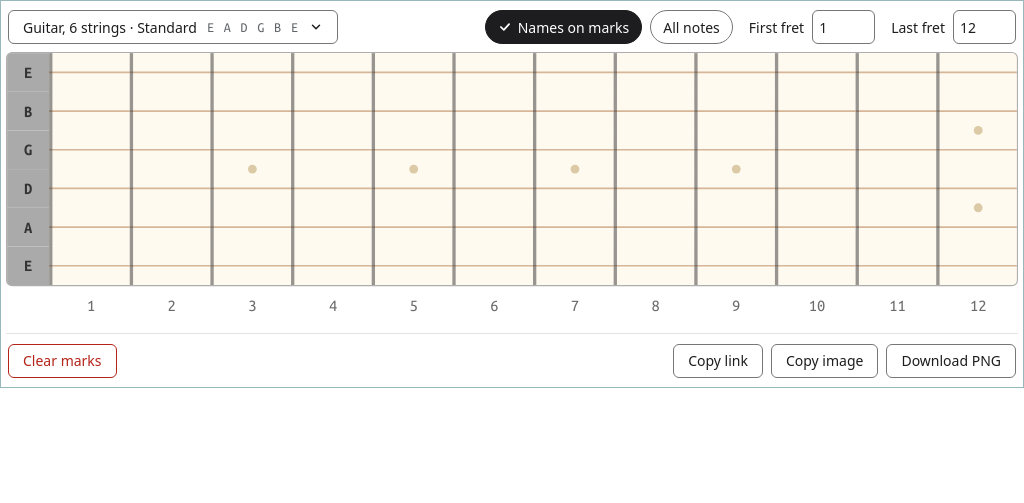
Test: Fretboard › fret window › pushes the last fret along to keep five frets showing
The image size is (1024, 503).
Replace the text in the number field labelled "First fret" with "15": [844, 27] box left=812, top=10, right=875, bottom=44
Then press Enter
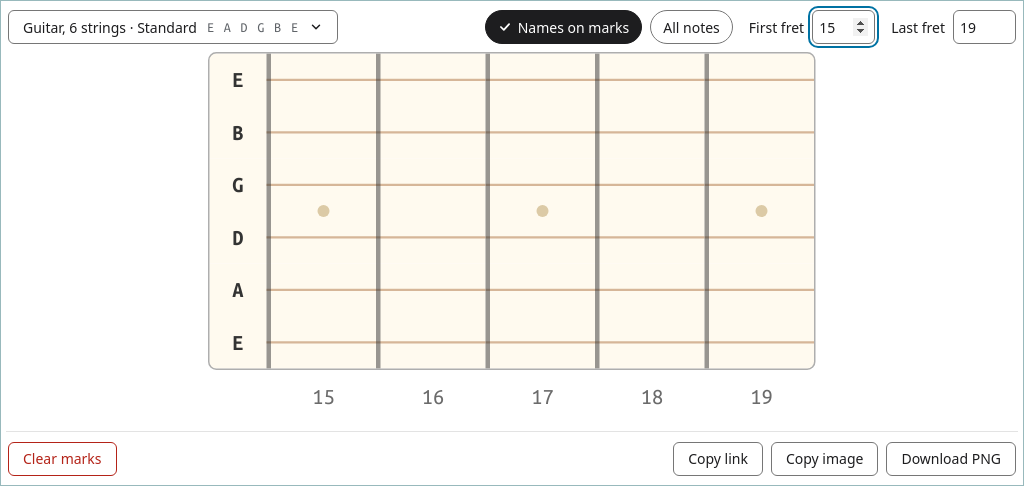
Check: the number field labelled "Last fret" holds "19"
Replace the text in the number field labelled "Last fret" with "8": [984, 27] box left=953, top=10, right=1016, bottom=44
Then press Enter
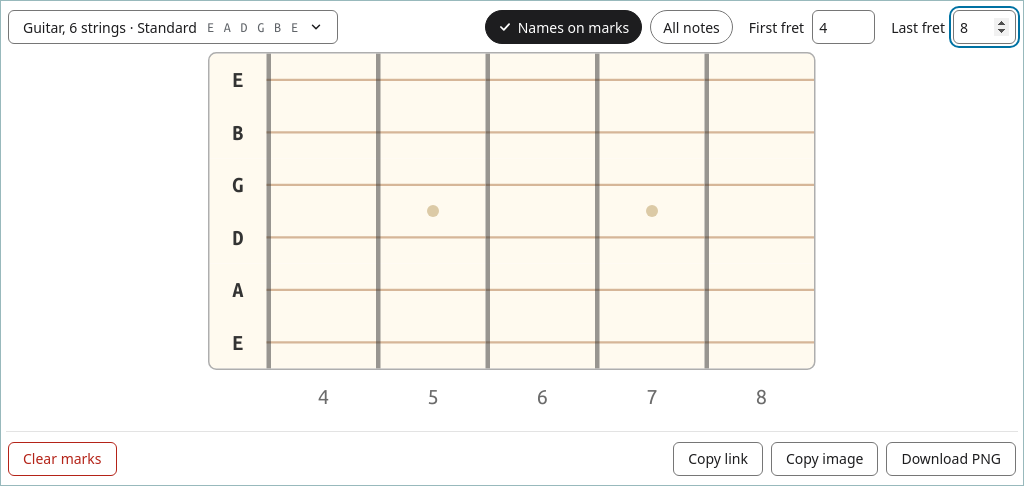
Check: the number field labelled "First fret" holds "4", box left=812, top=10, right=875, bottom=44
